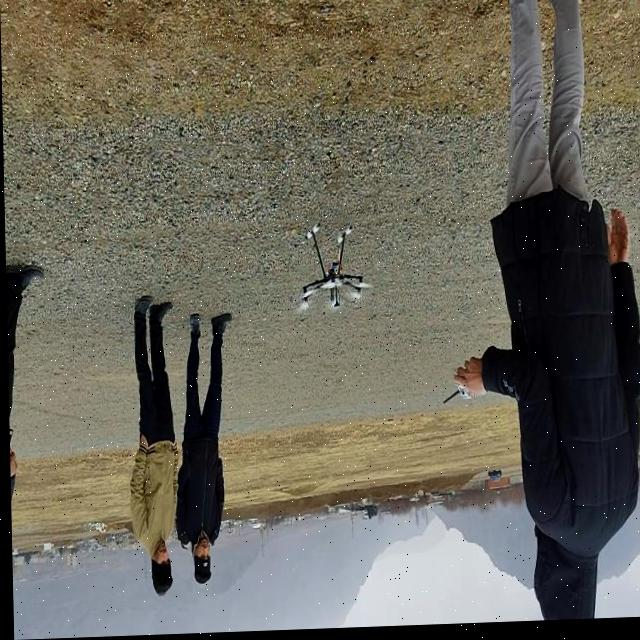drone: (292, 224, 374, 321)
